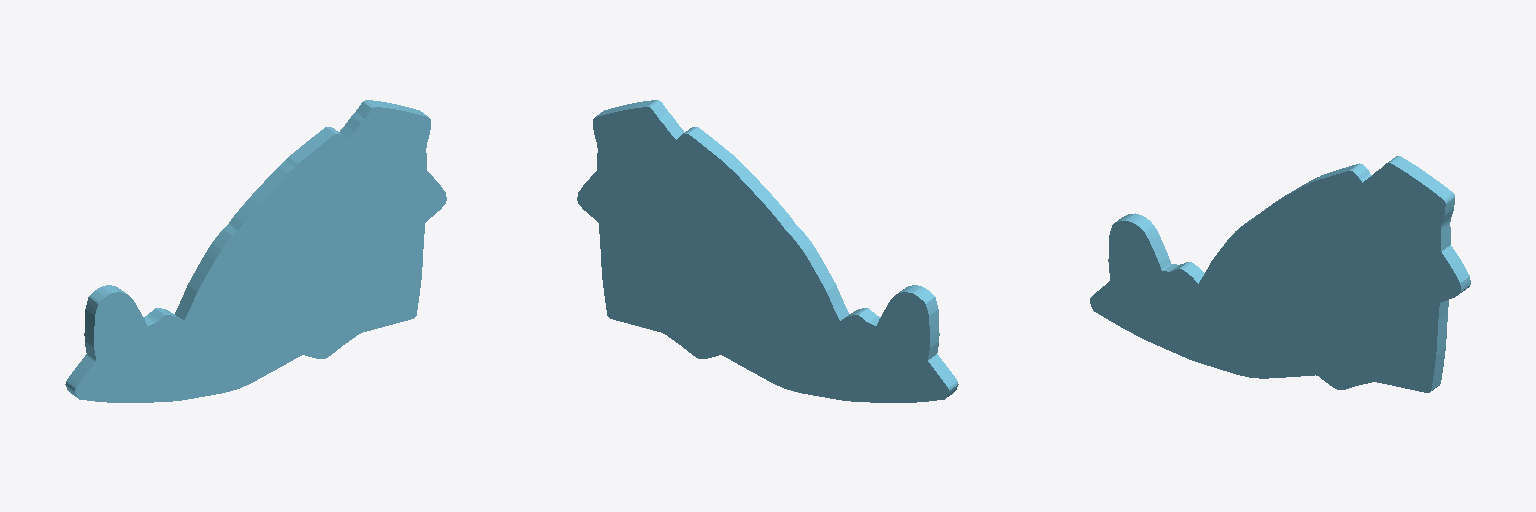
Rendered from shard.obj.
3 views of the same model, side by side, from view 1: azimuth 30°, elevation 25°; view 2: azimuth 150°, elevation 25°; view 3: azimuth 330°, elevation 25° (orthographic).
Visible parts, largest first — view 1: obj_0; view 2: obj_0; view 3: obj_0.
Part boxes in pixels (x1,y1,x2,y2): obj_0: (65, 100, 446, 402); obj_0: (577, 100, 958, 402); obj_0: (1090, 156, 1470, 392).
Bounding box in the file's own units: 66.88 × 42.84 × 3.